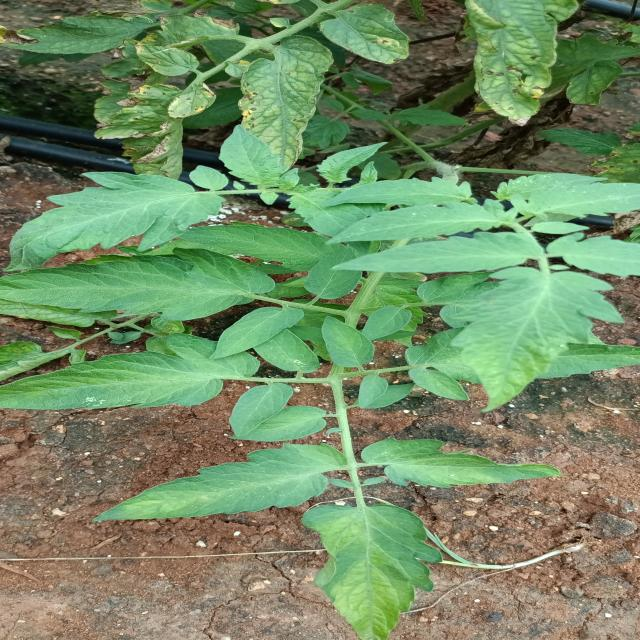Healthy Leaf: (79, 443, 349, 529), (468, 273, 620, 419), (0, 249, 287, 320), (307, 501, 439, 640), (370, 434, 576, 500), (0, 354, 235, 411)
